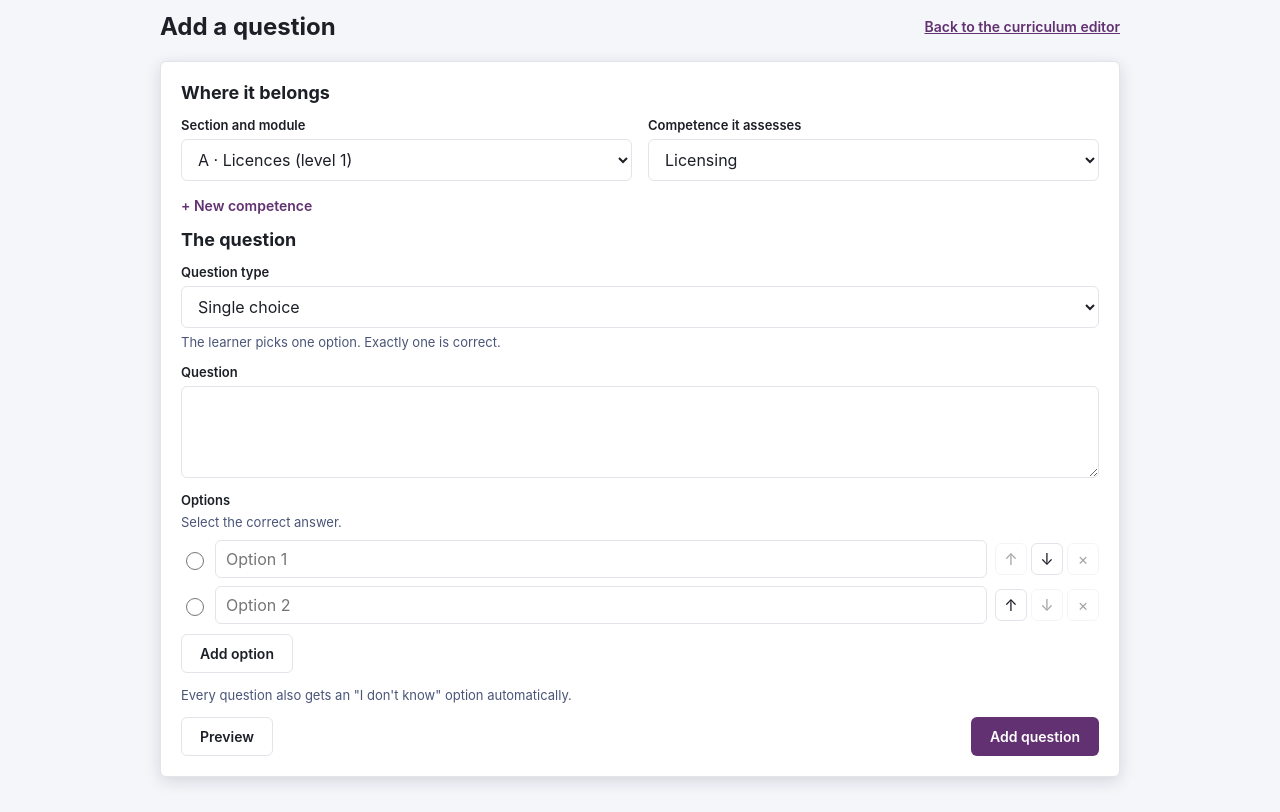
Scenario: QuestionEditorPage: a new question › shows the server's reason when a save is refused
Expected: the heading "Add a question" is shown, x1=160 y1=12 x2=336 y2=41
Type "Which?" into the text box labelled "Question". click: (640, 432)
box: x1=181 y1=386 x2=1099 y2=478
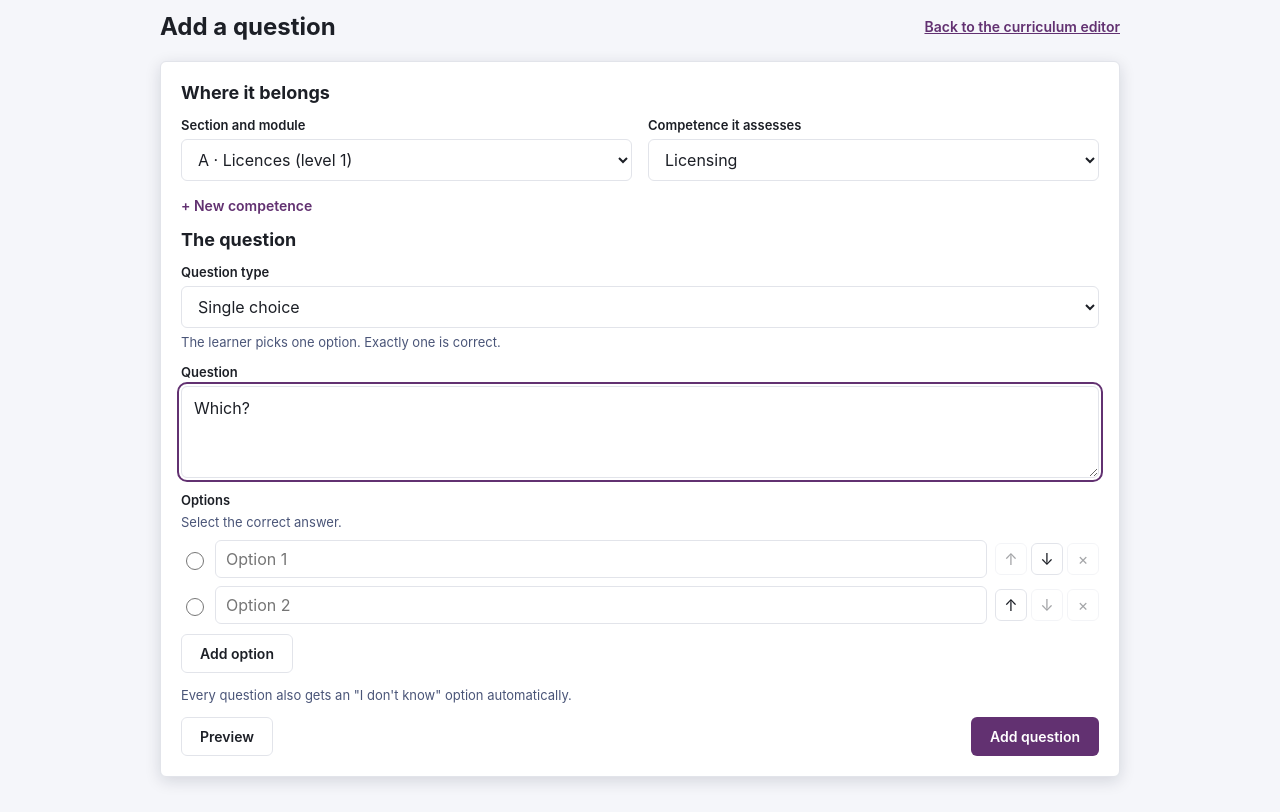
Click the button "Add question". click: (1035, 736)
box: x1=971 y1=717 x2=1099 y2=756
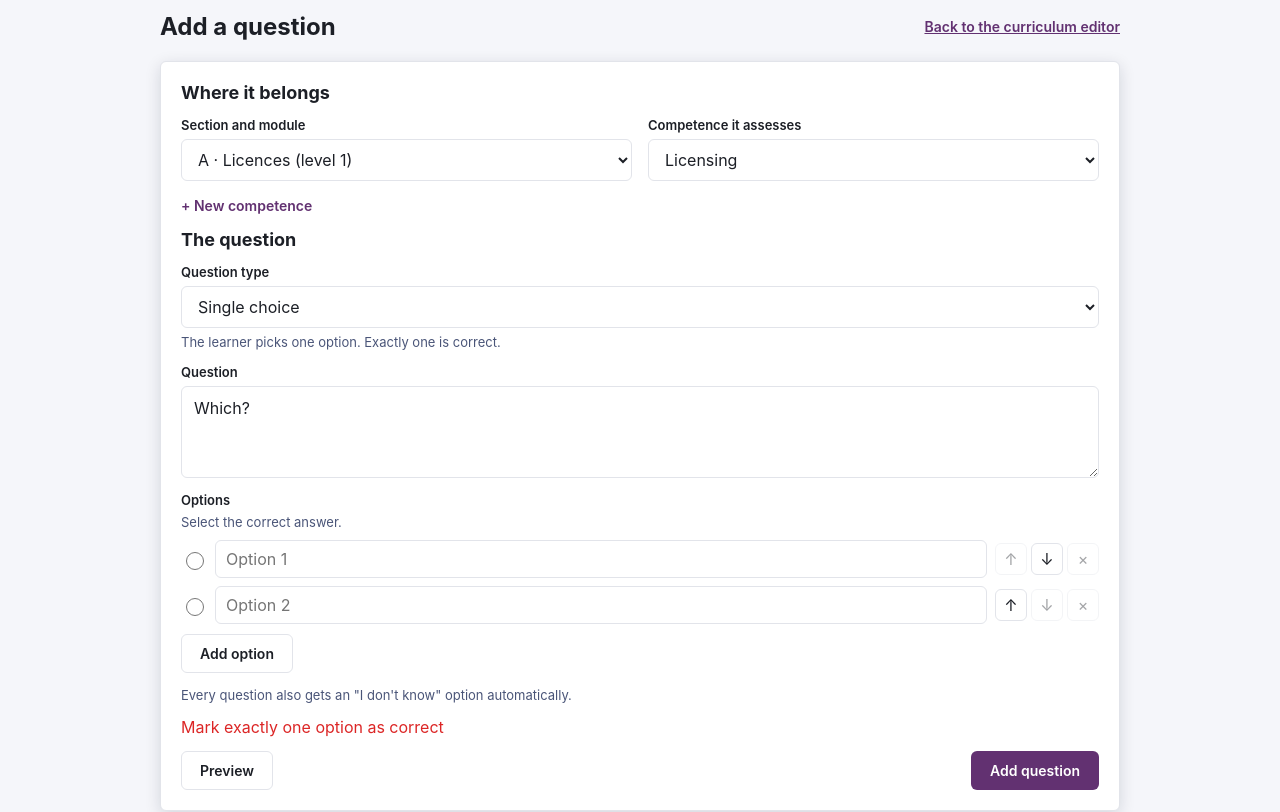
Expected: the message reads "Mark exactly one option as correct", x1=181 y1=717 x2=444 y2=737
